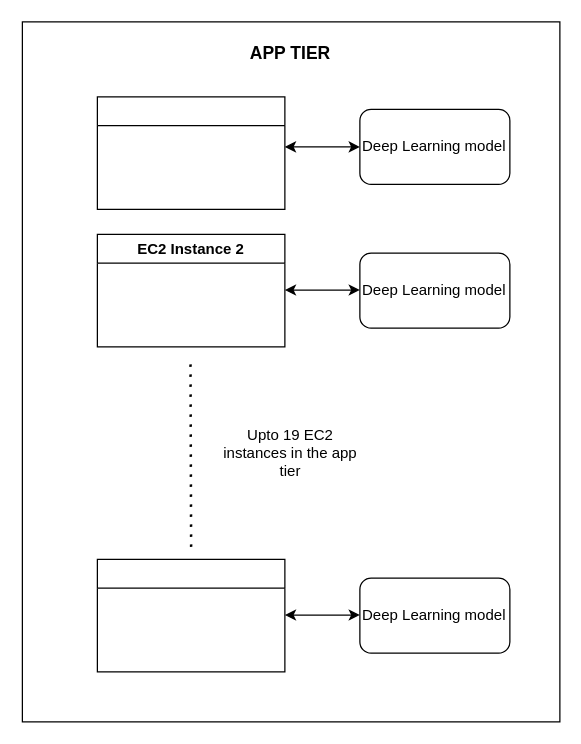
Image size: 581x744. Some labels were removed from this diagram. The centre of each missing label's shape, as x and y in pixels:
EC2 Instance 1: point 190,152
EC2 Instance 19: point 190,615
